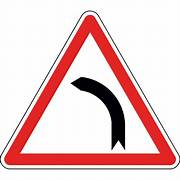left: (1, 10, 180, 170)
